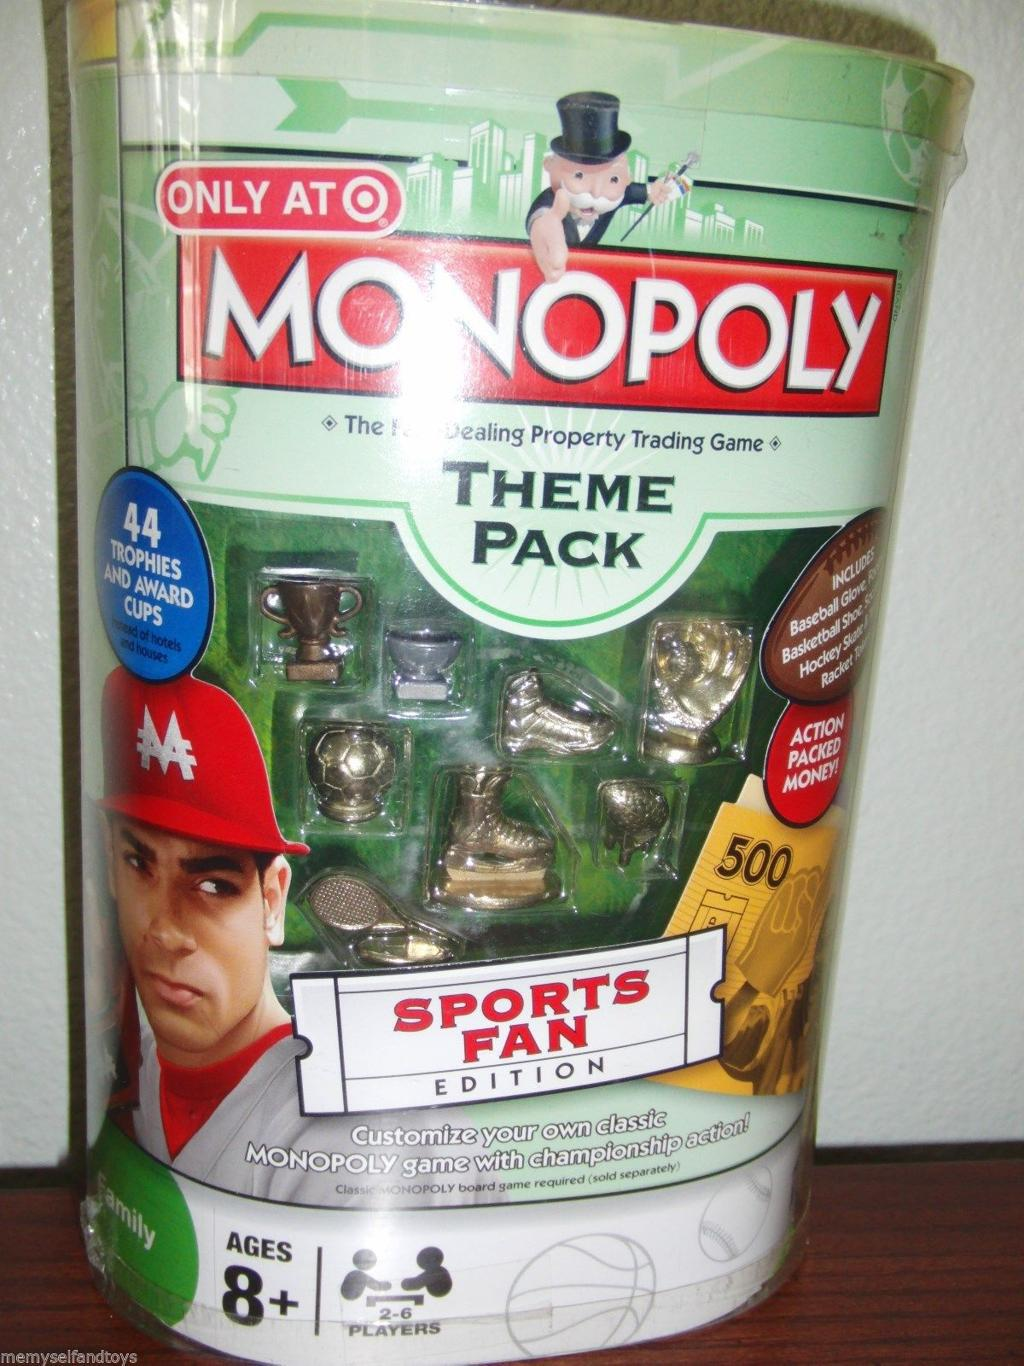face: (105, 817, 268, 1062)
